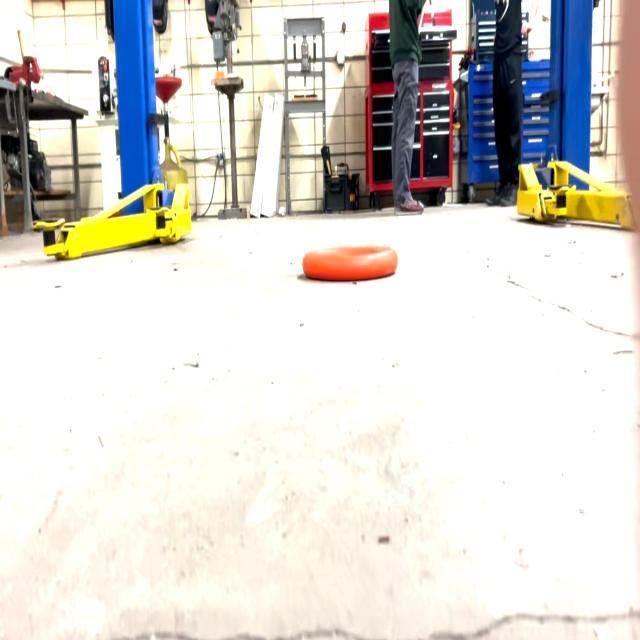note: (302, 244, 400, 286)
